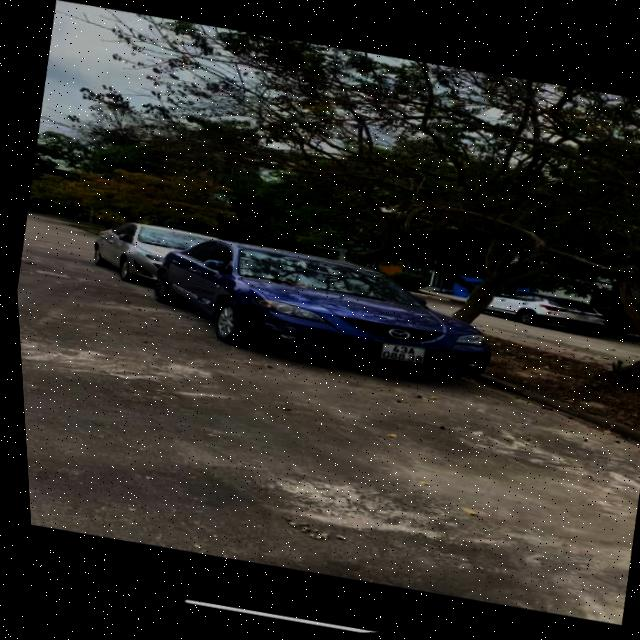car: (141, 219, 502, 400), (80, 209, 209, 298)
plate: (371, 333, 432, 373)
